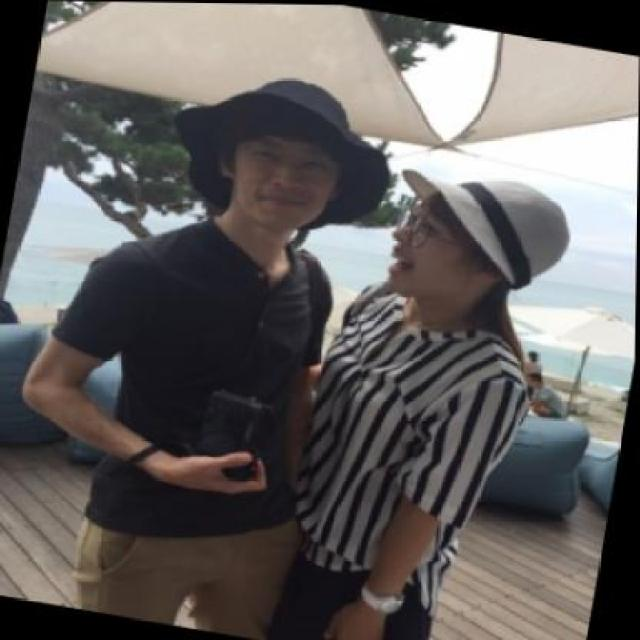hat: (156, 50, 409, 222), (390, 142, 590, 302)
